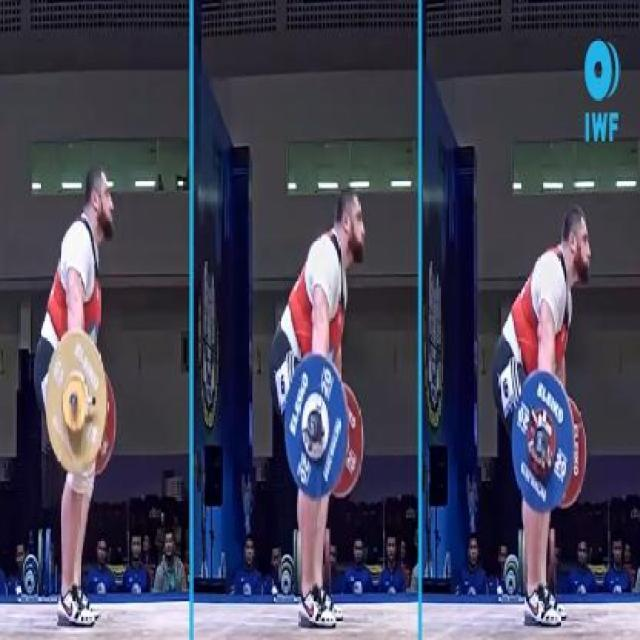barbell: (280, 345, 357, 519), (38, 317, 112, 476), (506, 365, 579, 517)
